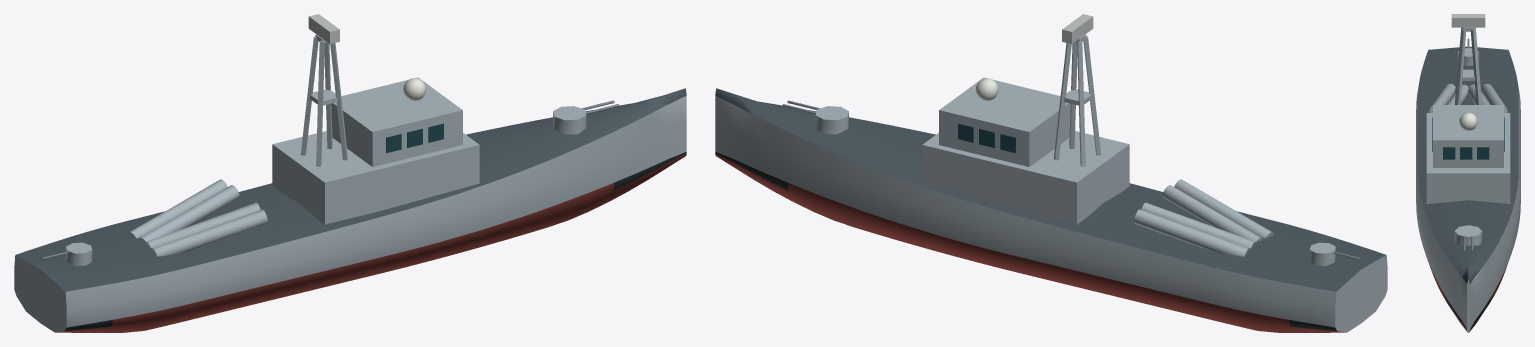
Rendered from irn_pgg_houdong.glb.
3 renders of one model, left to right at view 1: azimuth 30°, elevation 25°; view 2: azimuth 150°, elevation 25°; view 3: azimuth 270°, elevation 25°, orthographic. The views are drawn at different scales.
Parts seen in each view (by area): view 1: naval_paint, deck_non_skid, antifouling, glazing, boot_topping, array_face; view 2: naval_paint, deck_non_skid, antifouling, glazing, boot_topping, array_face; view 3: naval_paint, deck_non_skid, glazing, array_face, radome, antifouling, boot_topping, titanium.
Boxes of the visible parts, x1,y1,x2,y2 form: naval_paint: [14, 34, 686, 332]; deck_non_skid: [16, 88, 686, 291]; antifouling: [56, 153, 686, 332]; glazing: [386, 123, 443, 153]; boot_topping: [65, 152, 686, 331]; array_face: [308, 14, 339, 43]; naval_paint: [715, 34, 1387, 332]; deck_non_skid: [715, 88, 1385, 291]; antifouling: [715, 153, 1345, 332]; glazing: [958, 123, 1015, 153]; boot_topping: [715, 152, 1336, 331]; array_face: [1062, 14, 1093, 43]; naval_paint: [1416, 27, 1520, 332]; deck_non_skid: [1418, 46, 1518, 283]; glazing: [1432, 117, 1504, 159]; array_face: [1451, 14, 1485, 27]; radome: [1459, 112, 1477, 130]; antifouling: [1428, 262, 1507, 331]; boot_topping: [1445, 296, 1491, 329]; titanium: [1463, 38, 1473, 251].
Size of the model in its own units: 10 by 3.69 by 1.76.
